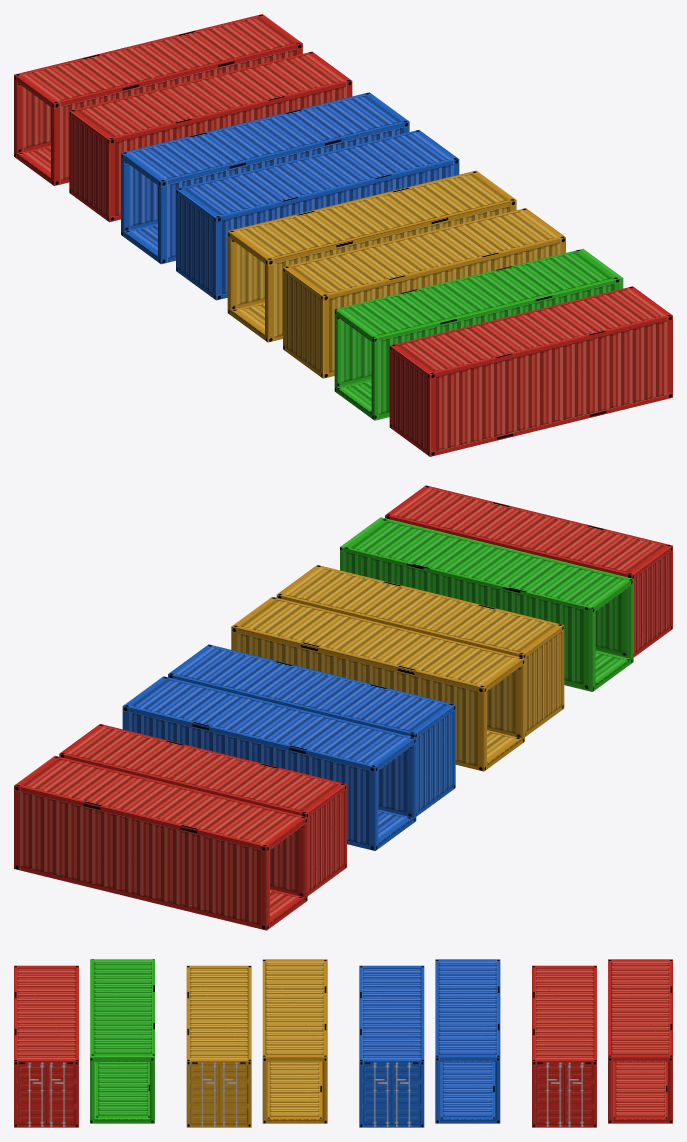
Rendered from container 8.FBX.
The picture shows the model from 3 angles, top to bottom: view 1: azimuth 30°, elevation 25°; view 2: azimuth 150°, elevation 25°; view 3: azimuth 270°, elevation 25°; orthographic projection. The views are drawn at different scales.
Parts seen in each view (by area): view 1: Box004, Box002, Box001, Box003, Line003, Line004, Line001, Line002; view 2: Line001, Line002, Line004, Line003, Box003, Box004, Box002, Box001; view 3: Line002, Line003, Box002, Box003, Line001, Line004, Box001, Box004.
Part boxes in pixels (<box>): Box004: <box>389,286,672,456</box>; Box002: <box>176,130,459,300</box>; Box001: <box>69,51,352,222</box>; Box003: <box>283,208,565,378</box>; Line003: <box>227,170,516,342</box>; Line004: <box>334,248,623,420</box>; Line001: <box>14,14,302,185</box>; Line002: <box>121,92,409,264</box>; Line001: <box>14,756,307,930</box>; Line002: <box>122,676,416,850</box>; Line004: <box>340,517,633,691</box>; Line003: <box>231,596,524,771</box>; Box003: <box>276,565,564,736</box>; Box004: <box>385,485,672,657</box>; Box002: <box>168,644,455,816</box>; Box001: <box>59,724,346,895</box>; Line002: <box>435,959,500,1123</box>; Line003: <box>262,959,327,1123</box>; Box002: <box>359,965,424,1127</box>; Box003: <box>186,965,251,1127</box>; Line001: <box>608,959,672,1123</box>; Line004: <box>90,959,154,1123</box>; Box001: <box>532,965,596,1127</box>; Box004: <box>14,965,78,1127</box>.
Size of the model in its own units: 334 by 109 by 940.
1 material, 1 textured.
